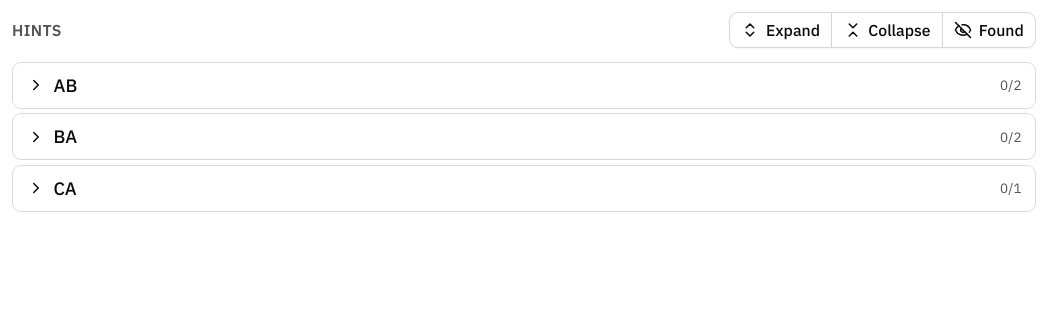
HintsList › collapsible behavior › collapses section when expanded prefix is clicked again
The width and height of the screenshot is (1048, 312).
// Expand AB
What coordinates should you click on to do the following:
click the button "AB 0/2"
I would click on:
 (36, 85)
Its box is [13,62,1035,108].
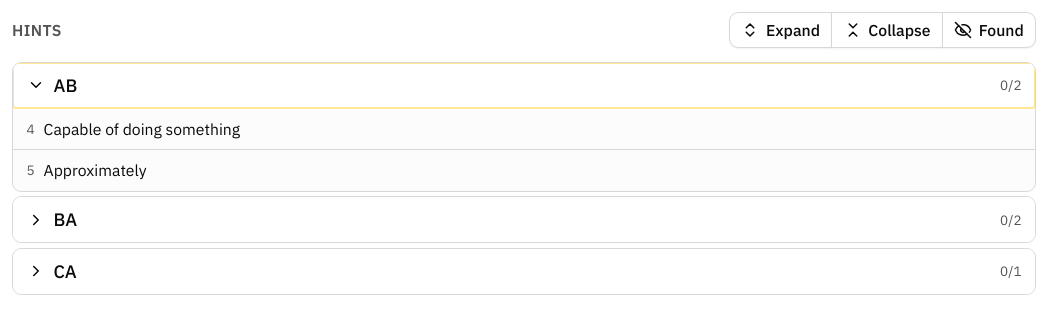
Expected: the text "Capable of doing something" is shown, [44,118,240,140]
// Collapse AB
What coordinates should you click on to do the following:
click the button "AB 0/2"
I would click on:
 (36, 85)
Its box is [13,62,1035,108].
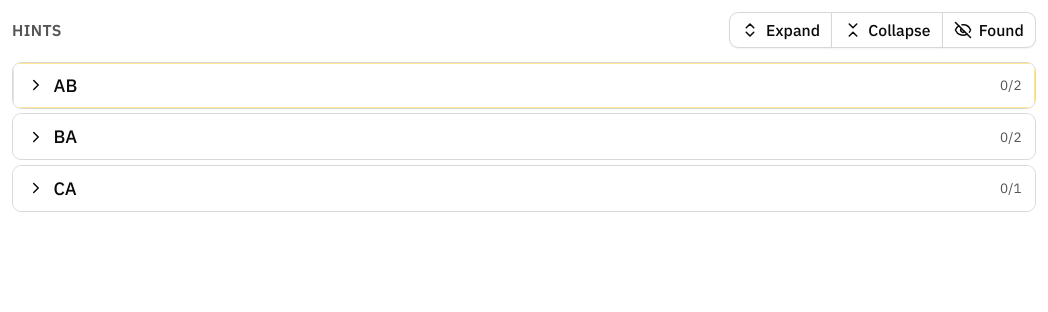
Expected: the text "Capable of doing something" is gone
